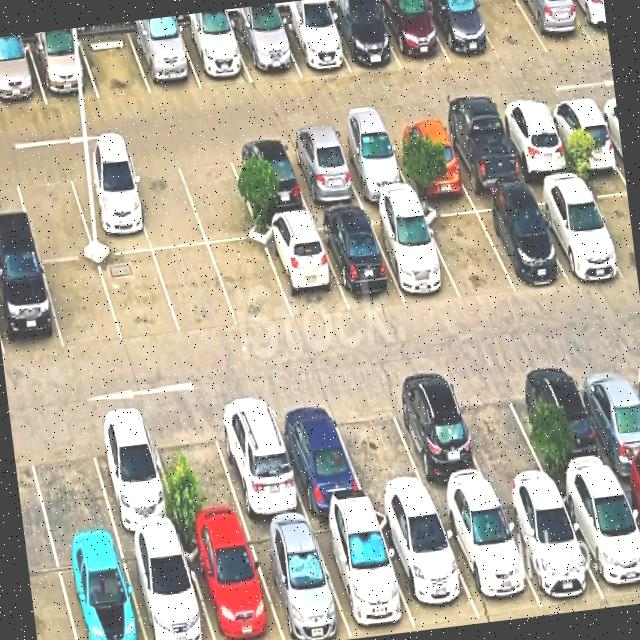empty: (449, 367, 552, 492), (146, 408, 246, 532), (328, 385, 431, 505), (23, 418, 117, 547), (420, 199, 515, 298), (175, 145, 260, 243), (124, 154, 206, 249), (13, 165, 94, 260), (153, 245, 238, 335), (98, 250, 181, 342), (209, 239, 293, 327), (42, 258, 122, 350), (581, 174, 637, 279), (78, 29, 151, 98), (470, 0, 547, 60)
occupied: (385, 375, 494, 502), (309, 510, 416, 639), (496, 487, 604, 608), (373, 504, 480, 626), (435, 494, 541, 617), (244, 520, 352, 640), (209, 395, 307, 523), (268, 393, 367, 515), (85, 412, 180, 538), (520, 359, 616, 483), (181, 526, 283, 640), (556, 476, 640, 606), (120, 533, 214, 640), (527, 179, 625, 281), (471, 192, 567, 290), (260, 217, 349, 321), (366, 205, 460, 301), (314, 210, 404, 310), (55, 540, 145, 640), (571, 354, 640, 475), (67, 159, 152, 255), (438, 111, 524, 192), (227, 138, 310, 220), (282, 132, 363, 211), (0, 258, 63, 358), (332, 126, 413, 203), (385, 119, 468, 193), (495, 102, 574, 179), (544, 96, 623, 171), (324, 2, 400, 72), (374, 0, 449, 69), (128, 25, 201, 93), (177, 22, 252, 88), (27, 35, 98, 104), (275, 11, 350, 76), (424, 0, 499, 63), (230, 17, 300, 82), (518, 0, 595, 52), (0, 41, 46, 110), (570, 0, 609, 46), (616, 471, 640, 532)
